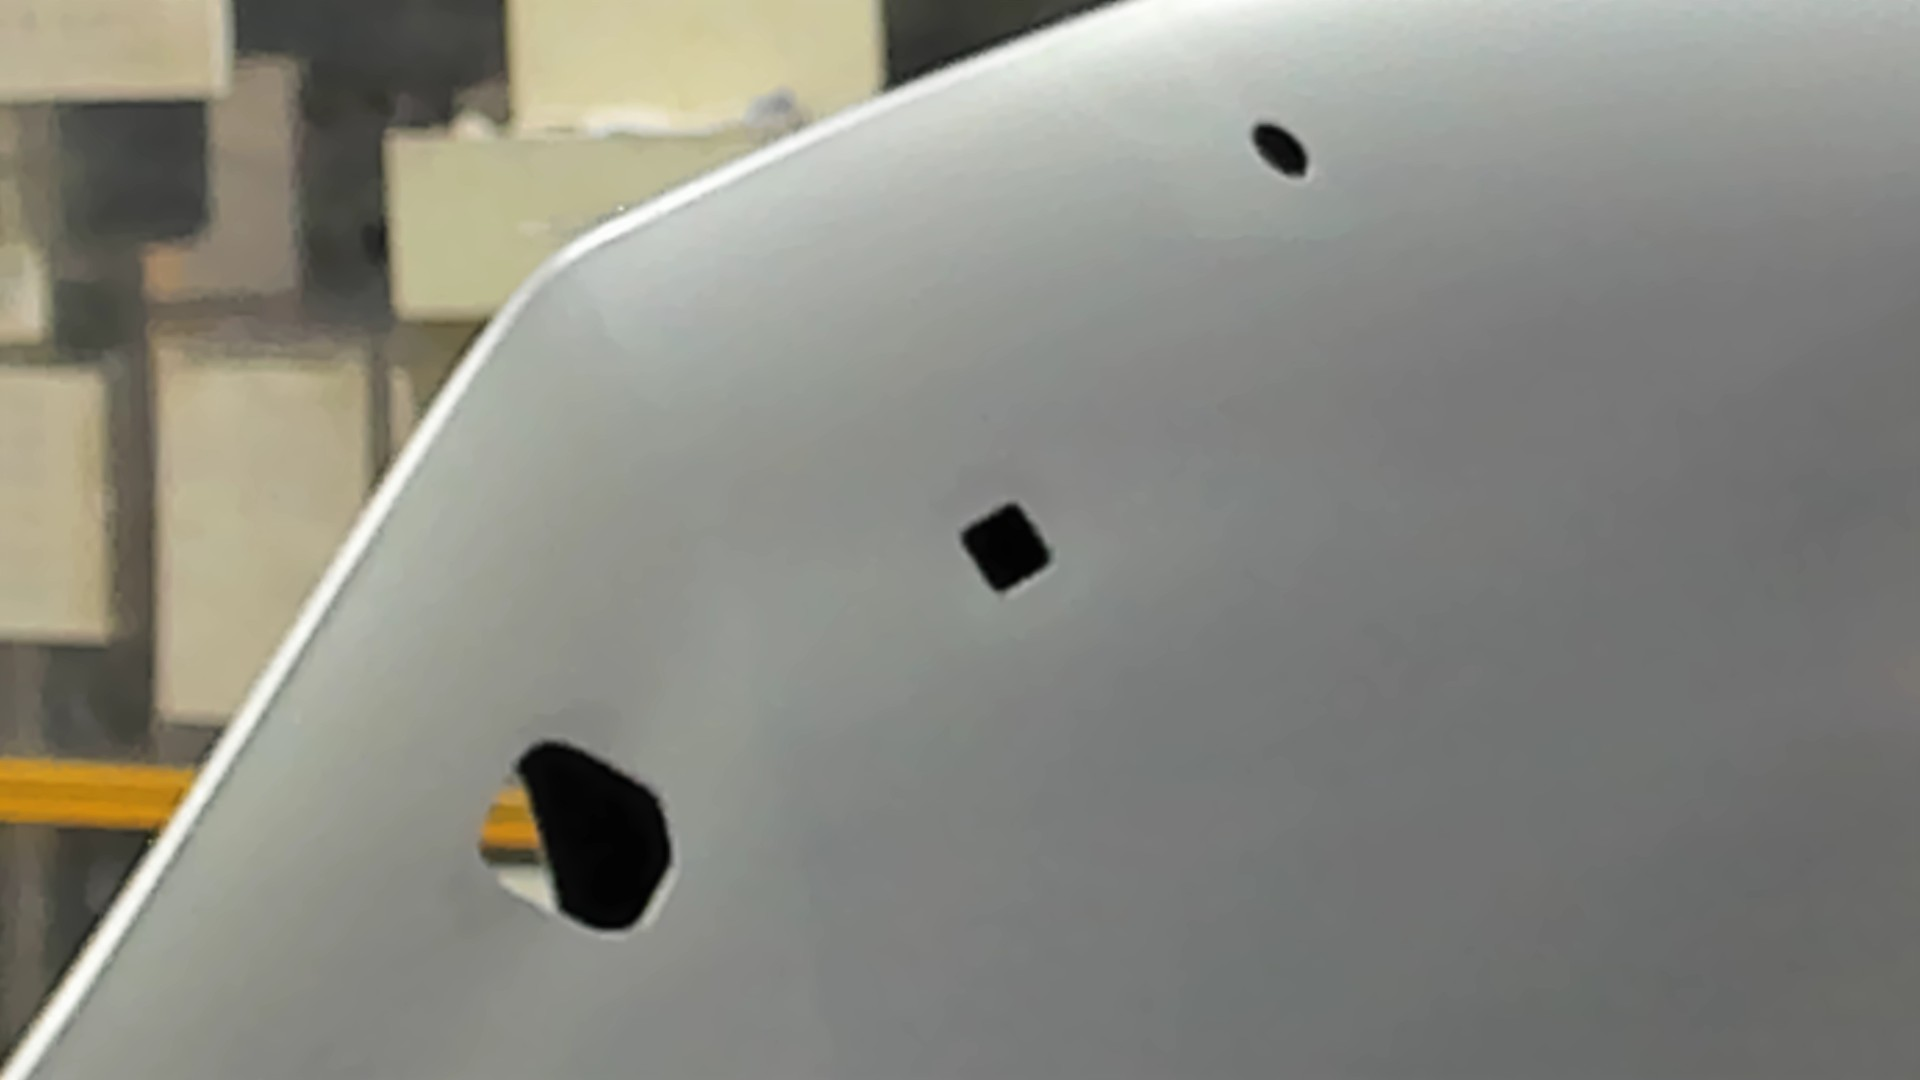chico: (1247, 117, 1309, 182)
grande: (475, 736, 680, 942)
mediano: (959, 501, 1055, 599)
